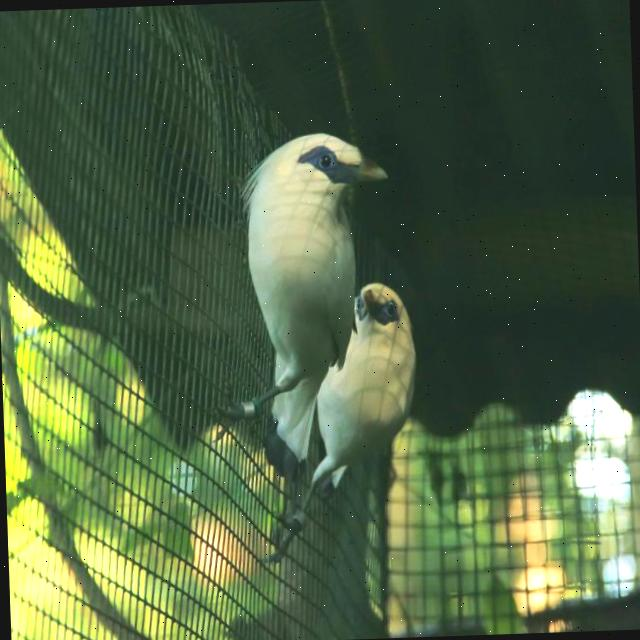Jalak Bali: (206, 110, 402, 493), (308, 254, 428, 531)
